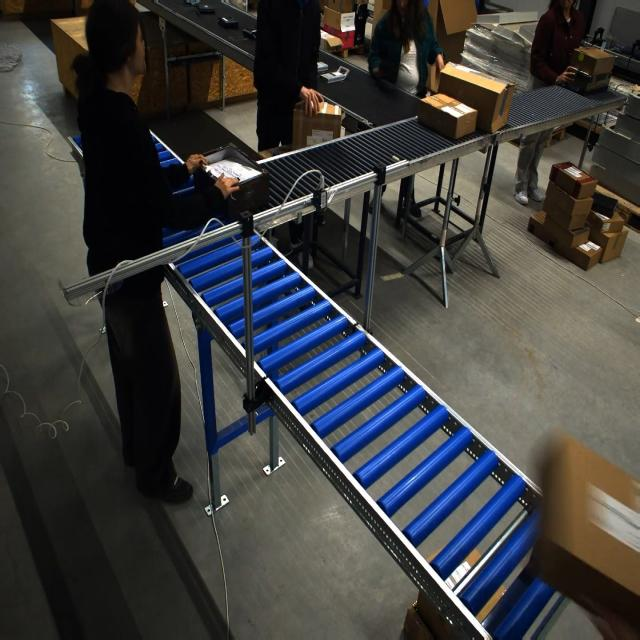box: (536, 433, 639, 633), (437, 62, 515, 135), (417, 92, 476, 140), (304, 102, 340, 147), (202, 158, 260, 184)
product: (325, 65, 350, 83), (217, 16, 239, 28), (196, 5, 216, 15), (242, 28, 256, 40), (316, 61, 328, 73), (184, 0, 201, 6)
